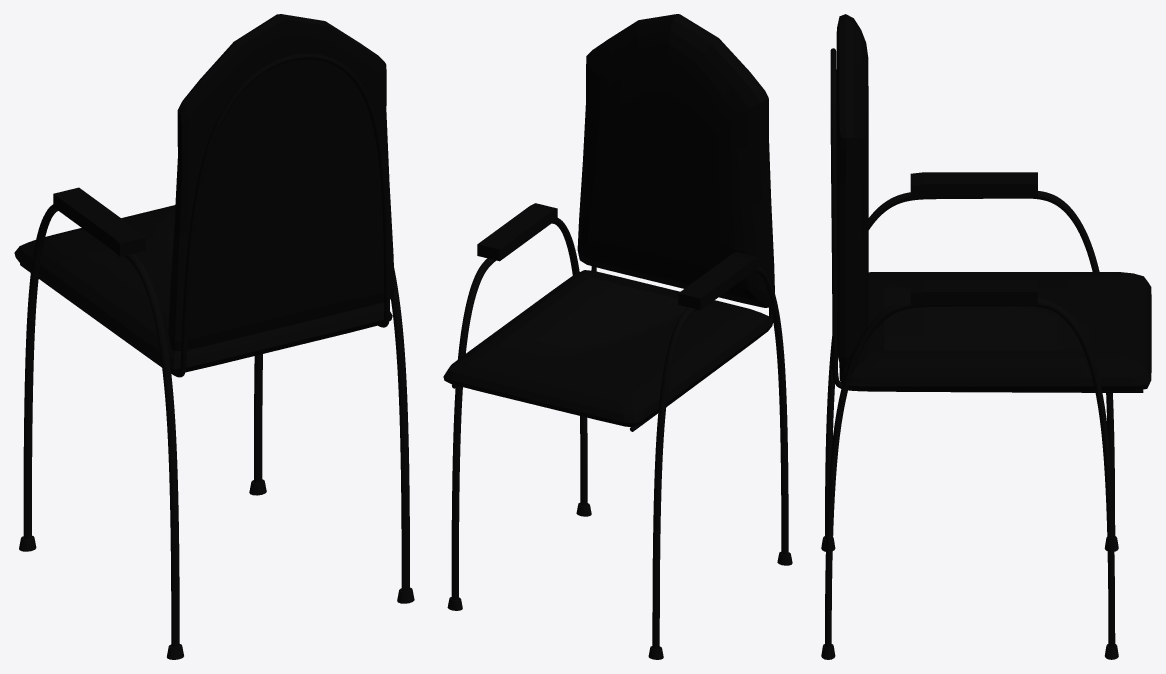
The model's file is chair.glb.
The picture shows the model from 3 angles, left to right: view 1: azimuth 30°, elevation 25°; view 2: azimuth 150°, elevation 25°; view 3: azimuth 270°, elevation 25°; orthographic projection. The views are drawn at different scales.
Visible parts, largest first — view 1: Cube.012; view 2: Cube.012; view 3: Cube.012.
Boxes of the visible parts, left/top/right/bottom form: Cube.012: left=14, top=14, right=414, bottom=659; Cube.012: left=443, top=14, right=792, bottom=659; Cube.012: left=821, top=14, right=1151, bottom=659.
Size of the model in its own units: 20 by 45.4 by 23.32.
Materials: 1 (1 with a texture image).
